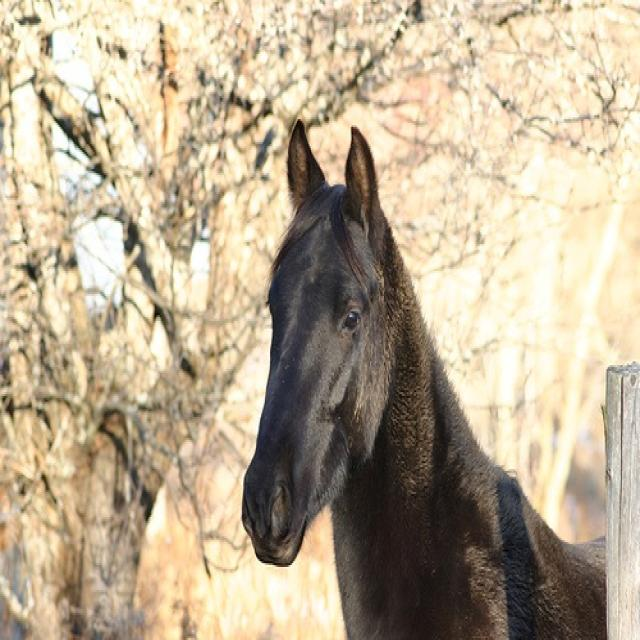horse: (245, 116, 607, 637)
